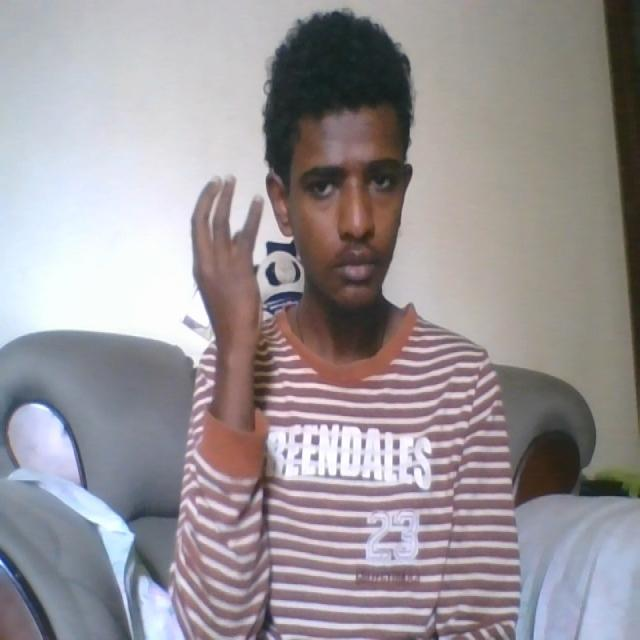menaded: (185, 166, 282, 362)
